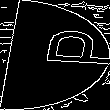P_W: (5, 34, 105, 76)
